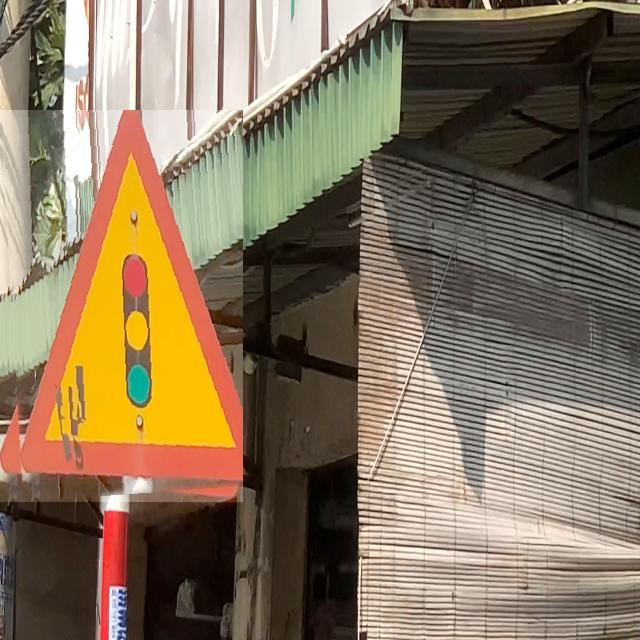W-209: (0, 110, 243, 502)
